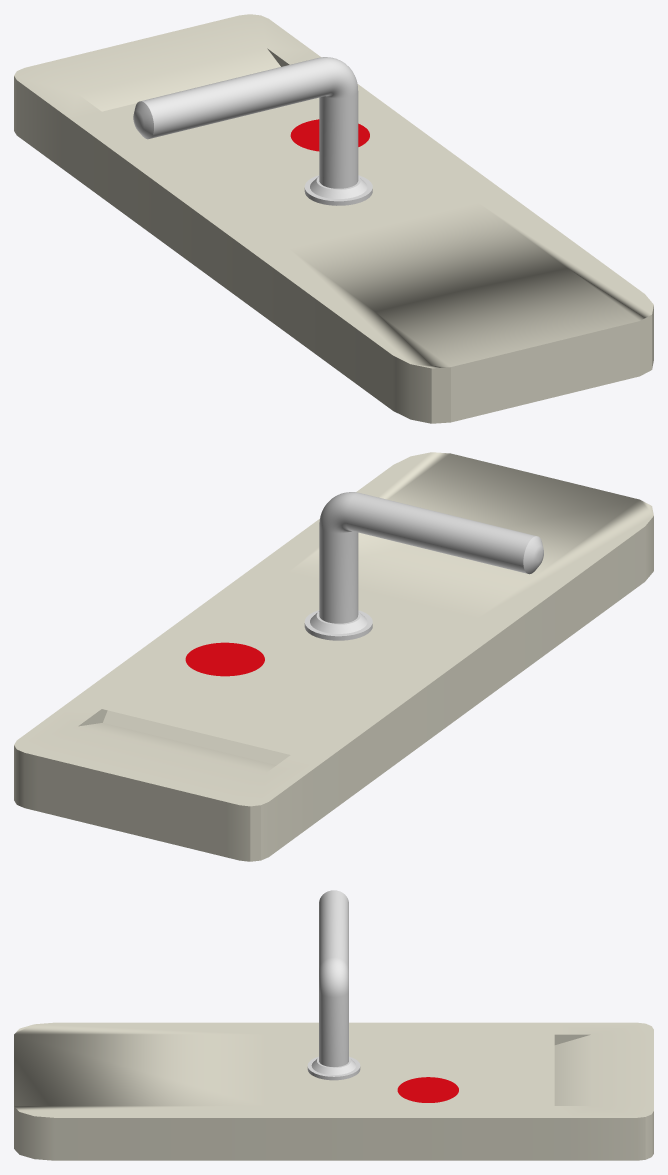
File: keycard_lock_left.fbx
The picture shows the model from 3 angles, top to bottom: view 1: azimuth 30°, elevation 25°; view 2: azimuth 150°, elevation 25°; view 3: azimuth 270°, elevation 25°; orthographic projection. The views are drawn at different scales.
Visible parts, largest first — view 1: Lock, Handle; view 2: Lock, Handle; view 3: Lock, Handle.
Boxes of the visible parts, x1,y1,x2,y2 form: Lock: [14, 14, 653, 423]; Handle: [133, 57, 372, 205]; Lock: [14, 452, 653, 861]; Handle: [304, 492, 543, 640]; Lock: [14, 1022, 653, 1160]; Handle: [307, 890, 360, 1080].
Bounding box in the file's own units: 19.47 × 10.98 × 42.62.
